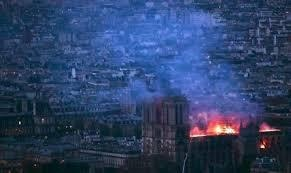fire: (194, 119, 241, 134)
